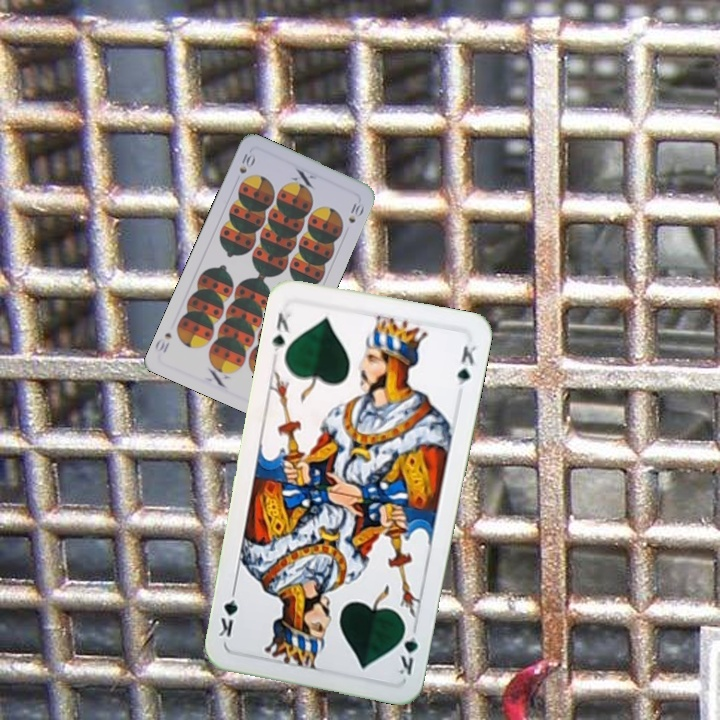GK: (393, 620, 421, 678), (268, 309, 294, 354)
S10: (235, 149, 258, 176)
